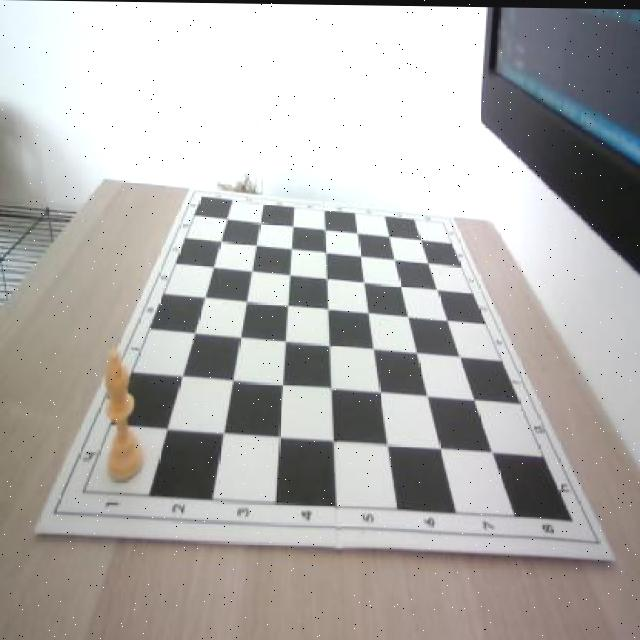black-rook: (104, 347, 144, 482)
